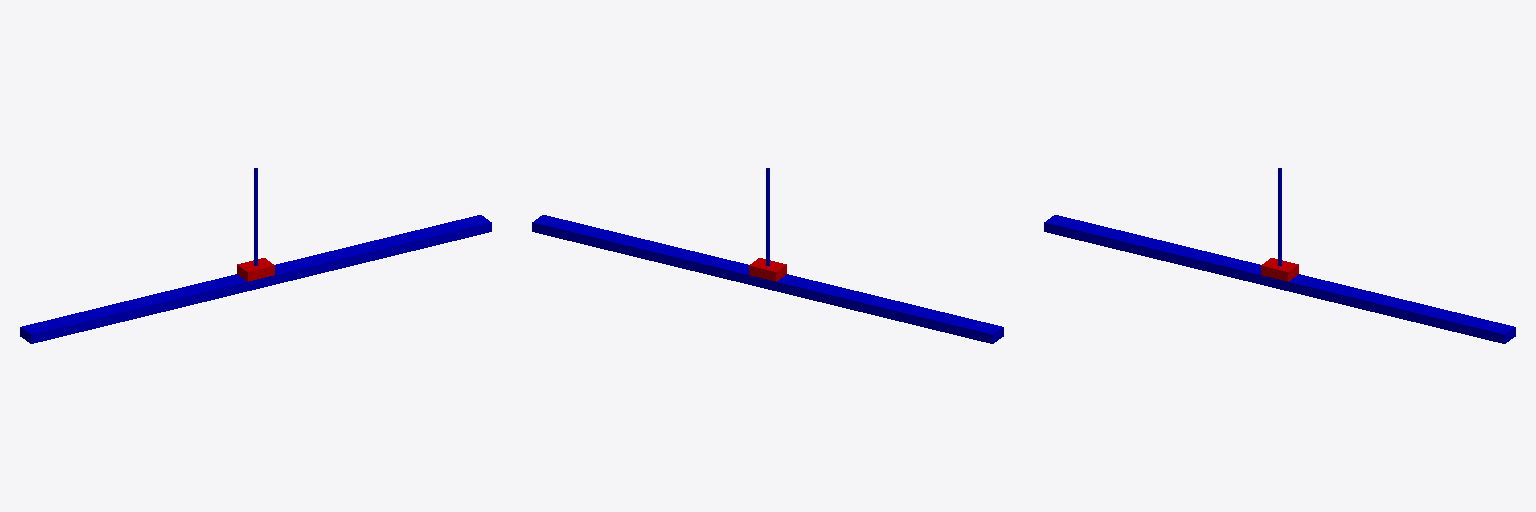
The robot description file, URDF, robot "cart_pole":
<?xml version="1.0"?>
<robot name="cart_pole">
    <!-- World Link (dummy root) -->
    <link name="world"/>

    <material name="blue">
        <color rgba="0 0 0.8 1"/>
    </material>
    <material name="red">
        <color rgba="0.8 0 0 1"/>
    </material>

    <!-- Base Link -->
    <link name="base_link">
        <visual>
            <geometry>
                <box size="5.0 0.2 0.1"/>
            </geometry>
            <material name="blue"/>
        </visual>
        <collision>
            <geometry>
                <box size="5.0 0.2 0.1"/>
            </geometry>
        </collision>
        <inertial>
            <mass value="5.0"/>
            <inertia ixx="0.1" ixy="0" ixz="0" iyy="0.1" iyz="0" izz="0.1"/>
        </inertial>
    </link>

    <!-- World to Base Joint (fixed) -->
    <joint name="world_to_base" type="fixed">
        <parent link="world"/>
        <child link="base_link"/>
    </joint>

    <!-- Cart Link -->
    <link name="cart">
        <visual>
            <geometry>
                <box size="0.3 0.2 0.1"/>
            </geometry>
            <material name="red"/>
        </visual>
        <collision>
            <geometry>
                <box size="0.3 0.2 0.1"/>
            </geometry>
        </collision>
        <inertial>
            <mass value="1.0"/>
            <inertia ixx="0.1" ixy="0" ixz="0" iyy="0.1" iyz="0" izz="0.1"/>
        </inertial>
    </link>

    <!-- Pole Link -->
    <link name="pole">
        <visual>
            <origin xyz="0 0 0.5"/>
            <geometry>
                <cylinder radius="0.02" length="1.0"/>
            </geometry>
            <material name="blue"/>
        </visual>
        <collision>
            <origin xyz="0 0 0.5"/>
            <geometry>
                <cylinder radius="0.02" length="1.0"/>
            </geometry>
        </collision>
        <inertial>
            <origin xyz="0 0 0.5"/>
            <mass value="1.0"/>
            <inertia ixx="0.083" ixy="0" ixz="0" iyy="0.083" iyz="0" izz="0.0012"/>
        </inertial>
    </link>

    <!-- Cart Joint -->
    <joint name="cart_to_base" type="prismatic">
        <parent link="base_link"/>
        <child link="cart"/>
        <origin xyz="0 0 0.1"/>
        <axis xyz="1 0 0"/>
        <limit lower="-2.5" upper="2.5" effort="1000.0" velocity="1000.0"/>
        <dynamics damping="5.0" friction="0.0"/>
    </joint>

    <!-- Pole Joint -->
    <joint name="pole_joint" type="revolute">
        <parent link="cart"/>
        <child link="pole"/>
        <origin xyz="0 0 0.05"/>
        <axis xyz="0 1 0"/>
        <limit lower="-3.14159" upper="3.14159" effort="1000.0" velocity="1000.0"/>
        <dynamics damping="0.1" friction="0.0"/>
    </joint>

    <!-- Gazebo Ignition plugins
    <gazebo>
        <plugin filename="gz-sim-joint-state-publisher-system"
                name="gz::sim::systems::JointStatePublisher">
        </plugin>
        <plugin filename="gz-sim-apply-joint-force-system"
                name="gz::sim::systems::ApplyJointForce">
            <joint_name>cart_to_base</joint_name>
        </plugin>
    </gazebo> -->

    <gazebo>
        <plugin filename="gz-sim-joint-state-publisher-system" name="gz::sim::systems::JointStatePublisher">
            <joint_name>cart_to_base</joint_name>
            <joint_name>pole_joint</joint_name>
            <publish_velocity>true</publish_velocity>
            <publish_acceleration>false</publish_acceleration>
            <publish_force>false</publish_force>
            <update_rate>100</update_rate> <!-- Hz -->
        </plugin>
        <plugin filename="gz-sim-apply-joint-force-system" name="gz::sim::systems::JointStatePublisher">
            <joint_name>cart_to_base</joint_name>
        </plugin>
    </gazebo>

    <!-- Material properties for Gazebo -->
    <gazebo reference="base_link">
        <material>Gazebo/Blue</material>
    </gazebo>
    <gazebo reference="cart">
        <material>Gazebo/Red</material>
    </gazebo>
    <gazebo reference="pole">
        <material>Gazebo/Blue</material>
    </gazebo>
    <gazebo reference="world">
        <gui>
            <camera>
                <pose>5 0 1.5 0 1.57 0</pose>
            </camera>
        </gui>
    </gazebo>
</robot> 

--- Facts derived from the render (not from the file) ---
The picture shows the robot from 3 angles, left to right: view 1: azimuth 30°, elevation 25°; view 2: azimuth 150°, elevation 25°; view 3: azimuth 330°, elevation 25°; orthographic projection.
Model cart_pole with 4 links and 3 joints (1 revolute, 1 prismatic, 1 fixed), rooted at world, posed every joint at zero.
Links seen in each view (by area): view 1: base_link, cart; view 2: base_link, cart; view 3: base_link, cart.
Link boxes in pixels (x1,y1,x2,y2): base_link: (20, 215, 491, 343); cart: (237, 258, 274, 281); base_link: (532, 215, 1003, 343); cart: (749, 258, 786, 281); base_link: (1044, 215, 1515, 343); cart: (1261, 258, 1298, 281).
Size in the robot's own frame: 5 by 0.2 by 1.2 metres.
Geometry: primitives only (box / cylinder / sphere), no mesh files.
